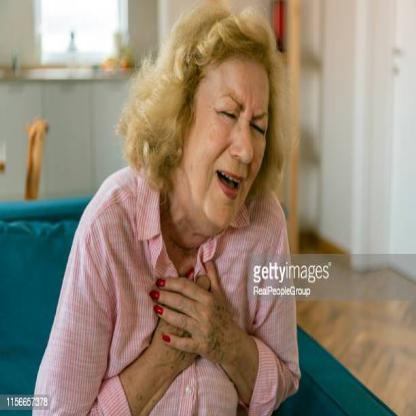pain: (213, 86, 269, 147)
